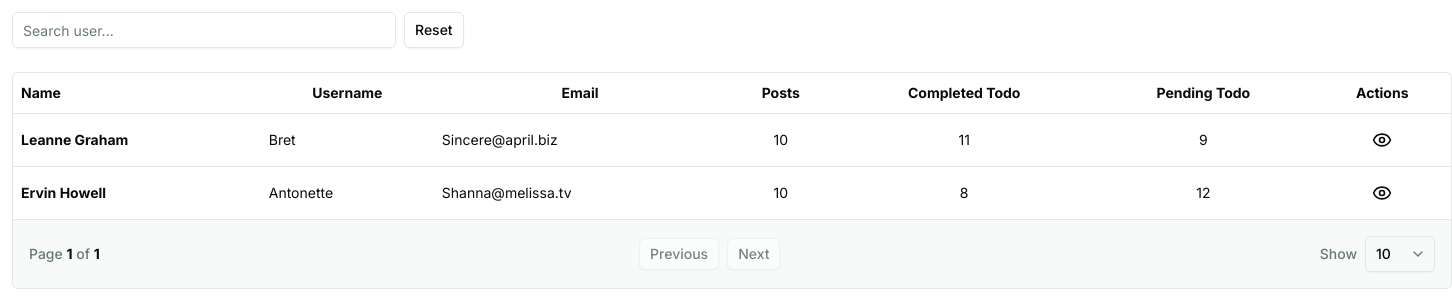
Test case: UserTable Component › show filtered data users
The image size is (1452, 306).
Type "Leanne" into the field with placeholder "Search user...".
click(204, 30); type("Leanne")  # box [12,12,396,48]
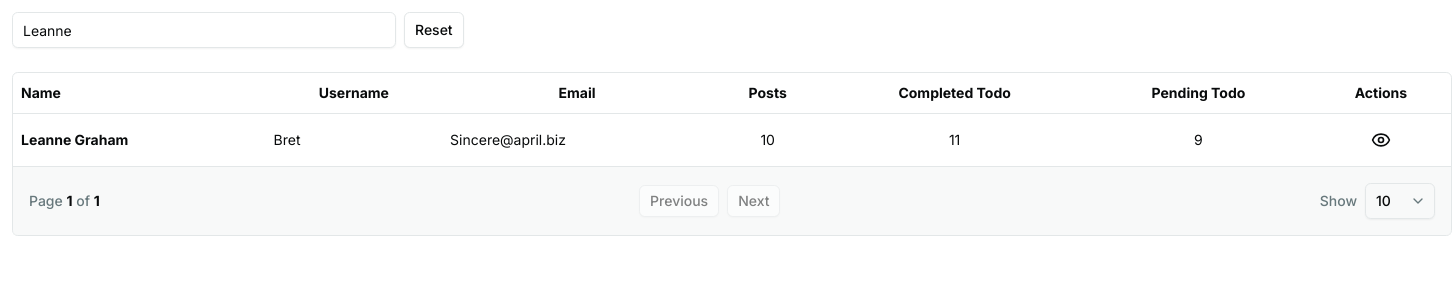
Expected: the text "Leanne Graham" is shown, [21,130,128,148]
Now the text "Ervin Howell" is gone
